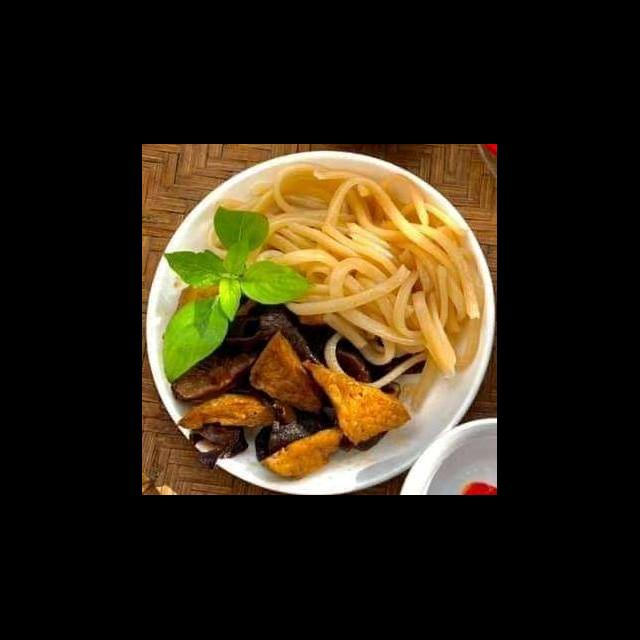banh da: (300, 358, 416, 450), (248, 330, 326, 414), (170, 388, 280, 438), (258, 424, 349, 482)
mi: (202, 160, 488, 392)
